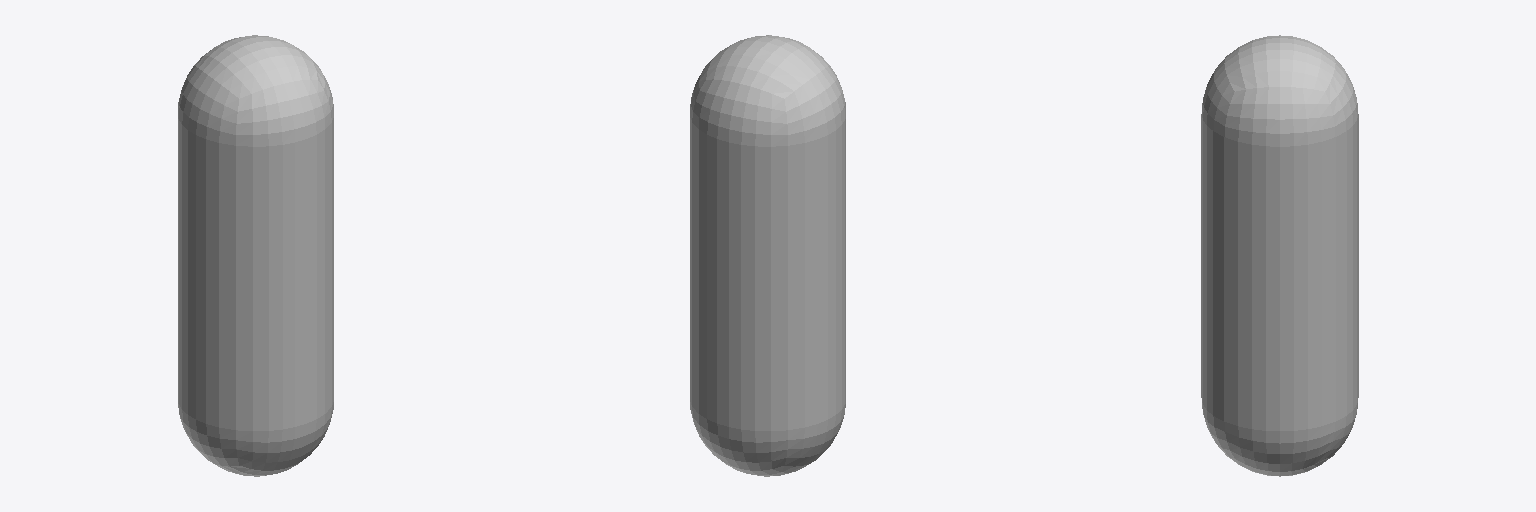
3 renders of one model, left to right at view 1: azimuth 30°, elevation 25°; view 2: azimuth 150°, elevation 25°; view 3: azimuth 270°, elevation 25°, orthographic.
Visible parts, largest first — view 1: Roundcube; view 2: Roundcube; view 3: Roundcube.
Boxes of the visible parts, x1=… form: Roundcube: x1=178, y1=35, x2=333, y2=476; Roundcube: x1=690, y1=35, x2=845, y2=476; Roundcube: x1=1201, y1=35, x2=1358, y2=476.
Bounding box in the file's own units: 1 × 3 × 1.